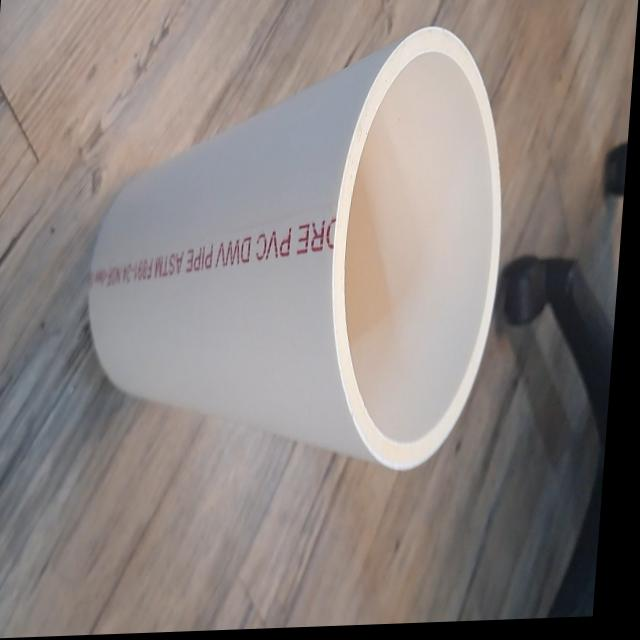CORAL: (83, 23, 500, 471)
